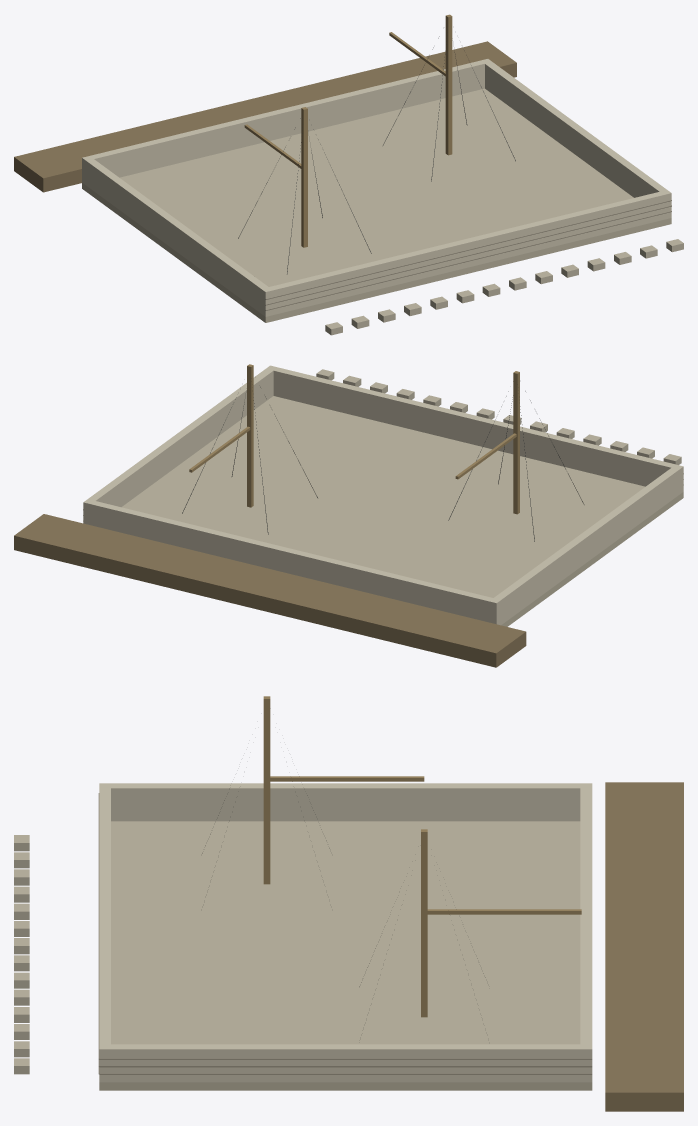
File: pulaski-courthouse-1914-site-1913.glb
3 views of the same model, one above another, from view 1: azimuth 30°, elevation 25°; view 2: azimuth 150°, elevation 25°; view 3: azimuth 270°, elevation 25° (orthographic). The views are drawn at different scales.
Visible parts, largest first — view 1: pulaski_rust, pulaski_stone, pulaski_earth, pulaski_timber, pulaski_stone2, pulaski_joint, pulaski_iron; view 2: pulaski_rust, pulaski_stone, pulaski_earth, pulaski_timber, pulaski_stone2, pulaski_iron; view 3: pulaski_rust, pulaski_stone, pulaski_earth, pulaski_timber, pulaski_stone2, pulaski_joint.
Boxes of the visible parts, box(x1,y1,x2,y2) form: pulaski_rust: box(82, 88, 671, 322); pulaski_stone: box(82, 59, 671, 316); pulaski_earth: box(14, 41, 516, 192); pulaski_timber: box(244, 14, 452, 247); pulaski_stone2: box(325, 239, 683, 335); pulaski_joint: box(265, 200, 671, 310); pulaski_iron: box(238, 36, 515, 274); pulaski_rust: box(122, 396, 683, 626); pulaski_stone: box(83, 365, 683, 625); pulaski_earth: box(14, 514, 526, 667); pulaski_timber: box(189, 364, 519, 514); pulaski_stone2: box(316, 369, 681, 464); pulaski_iron: box(182, 387, 584, 541); pulaski_rust: box(99, 821, 592, 1090); pulaski_stone: box(99, 783, 592, 1082); pulaski_earth: box(605, 782, 683, 1111); pulaski_timber: box(263, 696, 581, 1017); pulaski_stone2: box(14, 835, 29, 1074); pulaski_joint: box(98, 793, 592, 1074).
Size of the model in its own units: 56 by 16.3 by 51.1.
